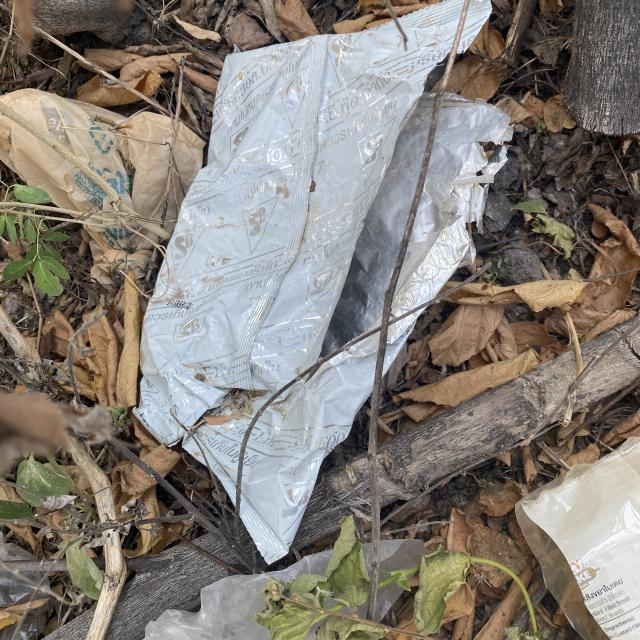Single-layer Plastic: (0, 89, 205, 284)
